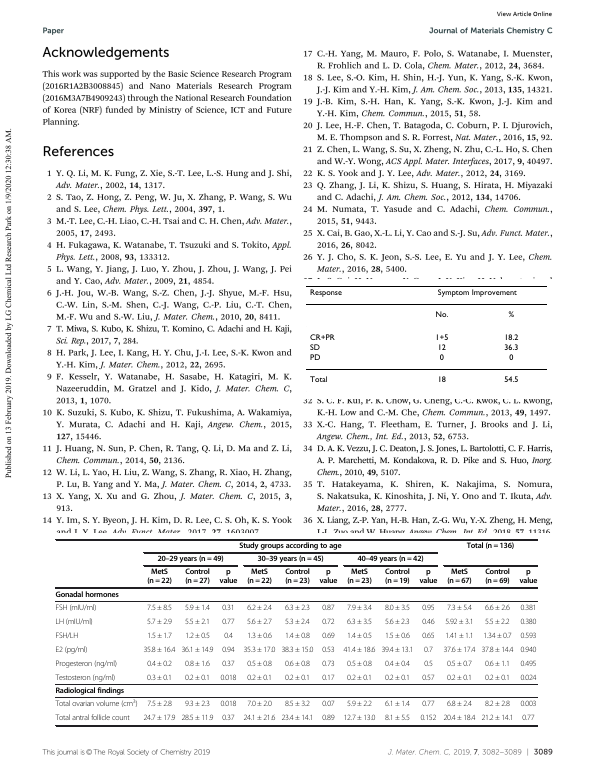borderless: (54, 538, 537, 725), (304, 284, 548, 393)
cell: (238, 542, 342, 551), (55, 698, 138, 709), (436, 289, 517, 298), (256, 555, 325, 565), (55, 714, 131, 723), (156, 555, 224, 565), (356, 555, 424, 565), (55, 590, 120, 600), (55, 659, 118, 669), (55, 687, 125, 696), (55, 673, 116, 683), (146, 568, 173, 587), (184, 568, 211, 587), (246, 568, 273, 587), (284, 568, 311, 587), (346, 568, 373, 587), (384, 568, 411, 587), (446, 568, 473, 587), (484, 568, 511, 587), (466, 542, 515, 551), (55, 603, 97, 613), (55, 617, 94, 627), (318, 568, 338, 587), (418, 568, 438, 587), (518, 568, 538, 587), (219, 568, 238, 587), (142, 645, 176, 655), (180, 645, 214, 655), (242, 645, 276, 655), (280, 645, 314, 655), (342, 645, 376, 655), (380, 645, 414, 655), (442, 645, 476, 655), (480, 645, 514, 655), (55, 645, 88, 655), (444, 631, 475, 641), (482, 631, 513, 641), (142, 714, 176, 723), (180, 714, 214, 723), (242, 714, 276, 723), (280, 714, 314, 723), (342, 714, 376, 723), (442, 714, 476, 723), (480, 714, 514, 723), (308, 289, 342, 298), (444, 617, 474, 627), (146, 603, 173, 613), (184, 603, 211, 613), (246, 603, 273, 613), (284, 603, 311, 613), (346, 603, 373, 613), (384, 603, 411, 613), (446, 603, 473, 613), (484, 603, 511, 613), (146, 617, 173, 627), (184, 617, 211, 627), (246, 617, 273, 627), (284, 617, 311, 627), (346, 617, 373, 627), (384, 617, 411, 627), (484, 617, 511, 627), (146, 631, 173, 641), (184, 631, 211, 641), (246, 631, 273, 641), (284, 631, 311, 641), (346, 631, 373, 641), (384, 631, 411, 641), (146, 659, 173, 669), (184, 659, 211, 669), (246, 659, 273, 669), (284, 659, 311, 669), (346, 659, 373, 669), (384, 659, 411, 669), (446, 659, 473, 669), (484, 659, 511, 669), (146, 673, 173, 683), (184, 673, 211, 683), (246, 673, 273, 683), (284, 673, 311, 683), (346, 673, 373, 683), (384, 673, 411, 683), (446, 673, 473, 683), (484, 673, 511, 683), (308, 333, 335, 343), (146, 700, 173, 709), (184, 700, 211, 709), (246, 700, 273, 709), (284, 700, 311, 709), (346, 700, 373, 709), (384, 700, 411, 709), (446, 700, 473, 709), (484, 700, 511, 709), (384, 714, 411, 723), (55, 631, 79, 641), (519, 603, 537, 613), (519, 617, 537, 627), (519, 631, 537, 641), (519, 645, 537, 655), (519, 659, 537, 669), (219, 673, 237, 683), (519, 673, 537, 683), (308, 376, 328, 385), (219, 700, 237, 709), (519, 700, 537, 709), (419, 714, 437, 723), (503, 333, 519, 343), (503, 343, 519, 353), (221, 603, 236, 613), (321, 603, 336, 613), (321, 631, 336, 641), (421, 631, 436, 641), (321, 645, 336, 655), (221, 659, 236, 669), (321, 659, 336, 669), (321, 673, 336, 683), (434, 333, 449, 343), (503, 376, 519, 385), (421, 603, 435, 613), (221, 617, 235, 627), (321, 617, 335, 627), (421, 617, 435, 627), (221, 645, 235, 655), (421, 673, 435, 683), (321, 700, 336, 709), (321, 714, 336, 723), (434, 311, 449, 320), (421, 700, 435, 709), (221, 714, 235, 723), (521, 714, 535, 723), (308, 343, 320, 353), (308, 354, 321, 363), (223, 631, 234, 641), (423, 645, 434, 655), (423, 659, 434, 669), (436, 343, 446, 353), (436, 376, 446, 385), (507, 311, 515, 320), (438, 354, 444, 363), (508, 354, 514, 363)
